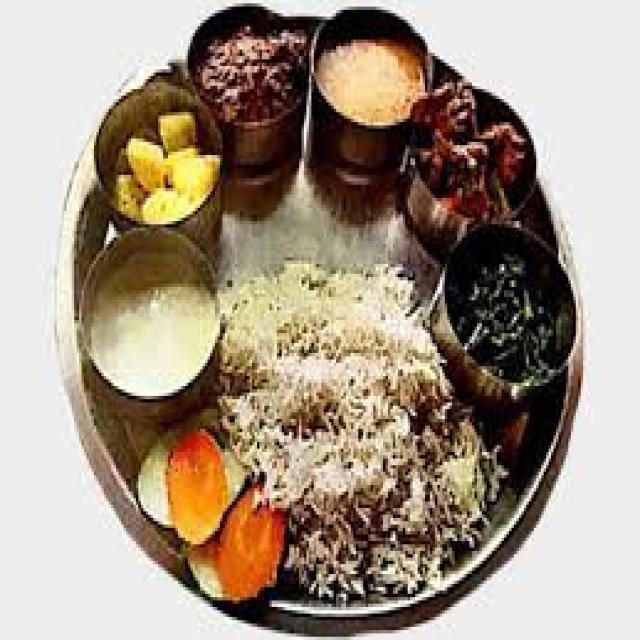curd: (74, 261, 223, 417)
rice: (272, 267, 465, 607), (231, 215, 427, 440)
sweet: (310, 16, 427, 143), (135, 411, 239, 549), (190, 15, 311, 129)
veg-fry: (403, 94, 540, 263)
